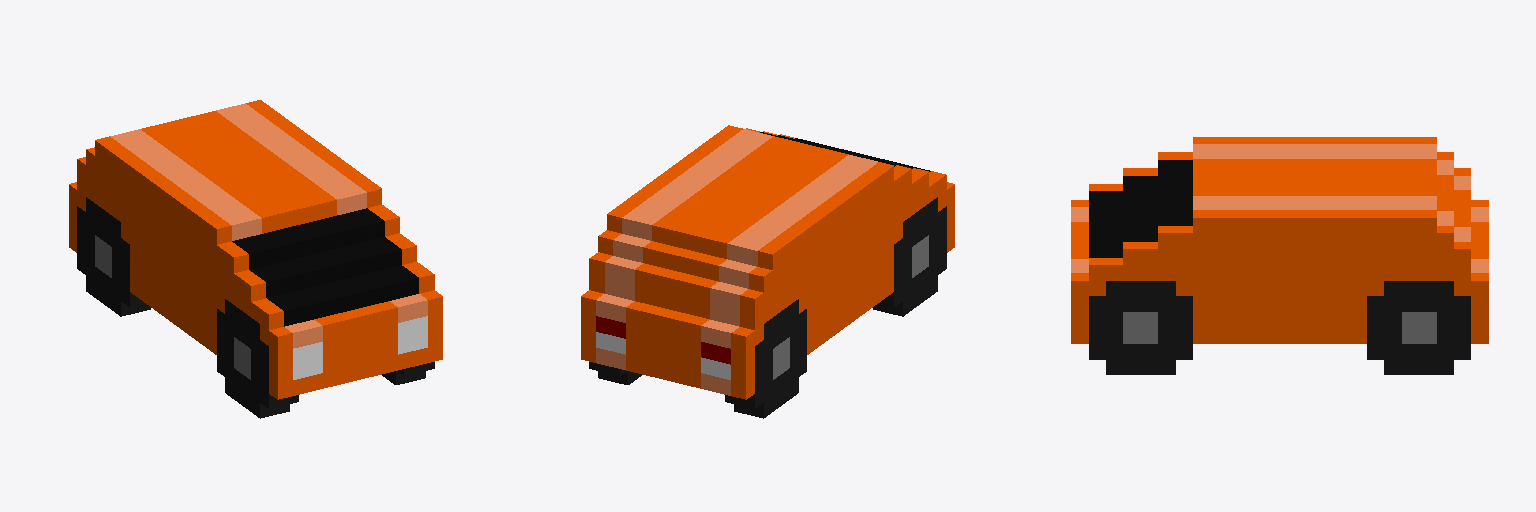
The picture shows the model from 3 angles: view 1: azimuth 30°, elevation 25°; view 2: azimuth 150°, elevation 25°; view 3: azimuth 270°, elevation 25°; orthographic projection.
Visible parts, largest first — view 1: sports_orange; view 2: sports_orange; view 3: sports_orange.
Part boxes in pixels (x1,y1,x2,y2): sports_orange: (69, 100, 442, 418); sports_orange: (581, 125, 954, 418); sports_orange: (1071, 137, 1488, 374).
Size of the model in its own units: 11 by 10 by 24.
1 materials, 1 textured.